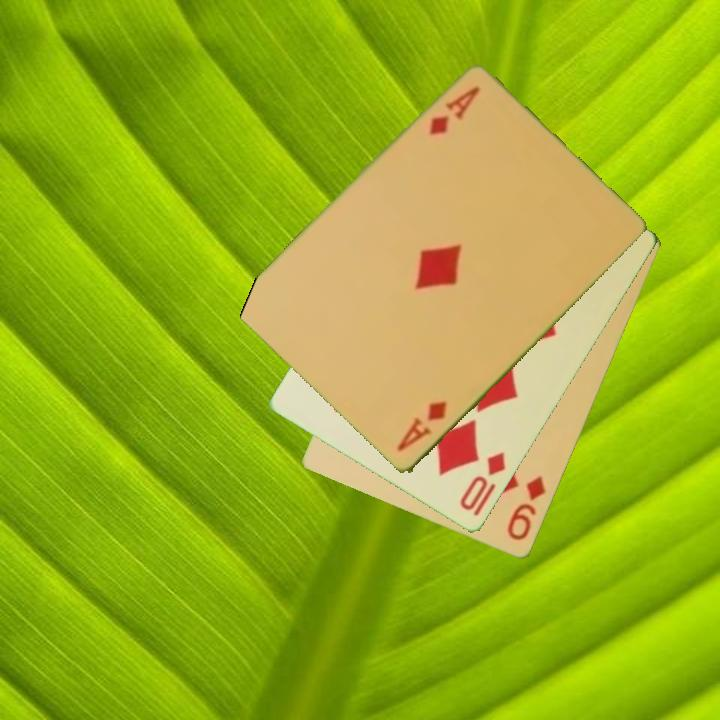10d: (456, 448, 509, 520)
9d: (503, 473, 549, 544)
Ad: (393, 398, 450, 456), (425, 83, 483, 139)
